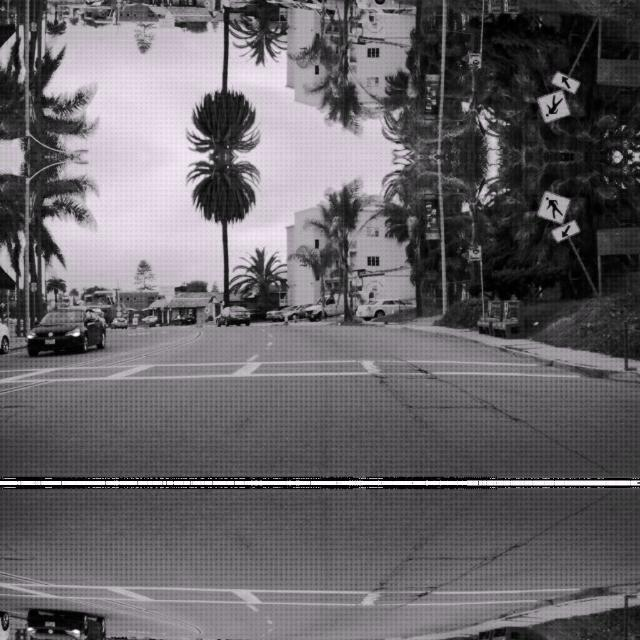pedestrianCrossing: (536, 188, 570, 224), (536, 88, 570, 124)
